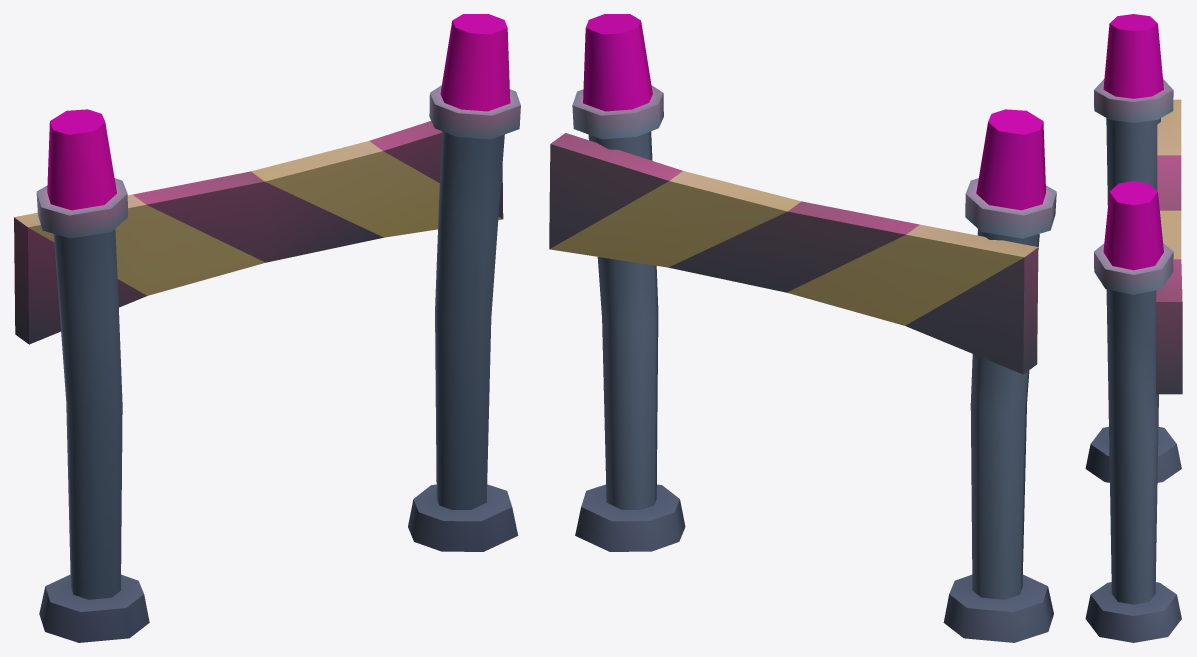
Rendered from obstacle-lightfence_01_H1g.glb.
3 views of the same model, side by side, from view 1: azimuth 30°, elevation 25°; view 2: azimuth 150°, elevation 25°; view 3: azimuth 270°, elevation 25° (orthographic). The views are drawn at different scales.
Parts seen in each view (by area): view 1: obstacle-lightfence_01_H1g; view 2: obstacle-lightfence_01_H1g; view 3: obstacle-lightfence_01_H1g.
Part boxes in pixels (left/top/right/bottom): obstacle-lightfence_01_H1g: left=14, top=14, right=520, bottom=642; obstacle-lightfence_01_H1g: left=549, top=14, right=1056, bottom=642; obstacle-lightfence_01_H1g: left=1085, top=14, right=1182, bottom=642.
Size of the model in its own units: 2.87 by 2.91 by 0.5847.
